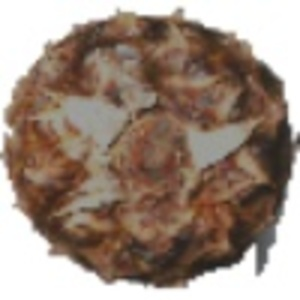abacaxi: (11, 12, 296, 280)
